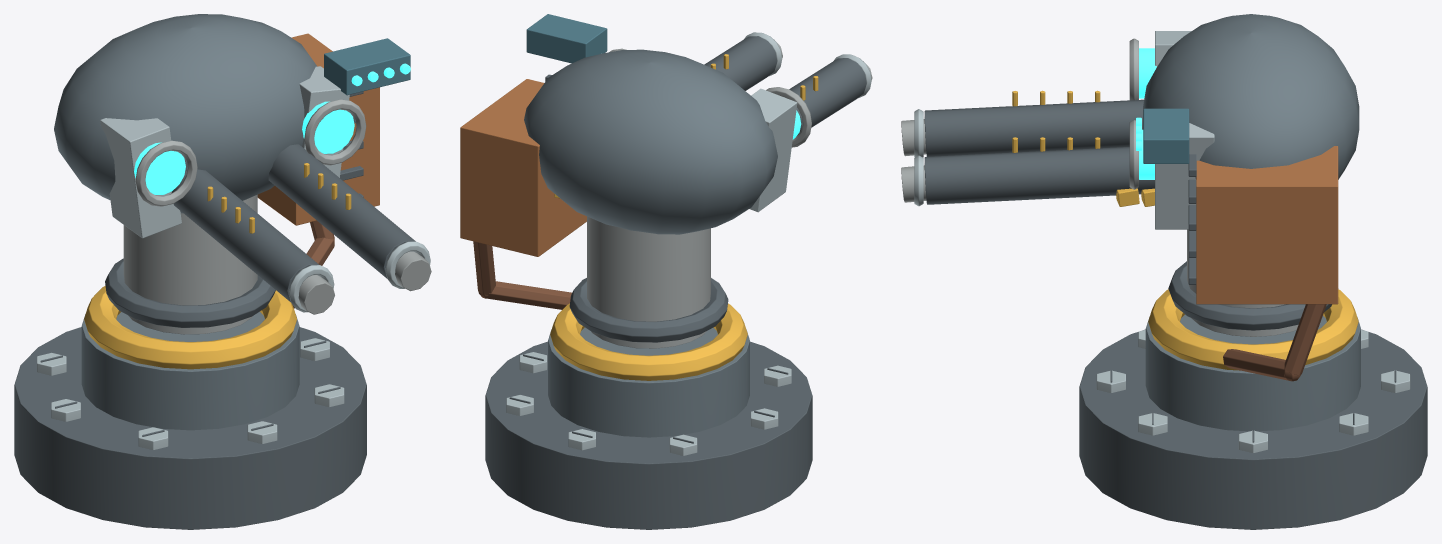
File: 21_Automated_Sentry_Turret.fbx
3 renders of one model, left to right at view 1: azimuth 30°, elevation 25°; view 2: azimuth 150°, elevation 25°; view 3: azimuth 270°, elevation 25°, orthographic. The views are drawn at different scales.
Visible parts, largest first — view 1: 21_Automated_Sentry_Turret; view 2: 21_Automated_Sentry_Turret; view 3: 21_Automated_Sentry_Turret.
Part boxes in pixels (x1,y1,x2,y2): 21_Automated_Sentry_Turret: (14,14,431,529); 21_Automated_Sentry_Turret: (460,14,872,529); 21_Automated_Sentry_Turret: (901,14,1427,529).
Size of the model in its own units: 1.58 by 2.04 by 2.3.
